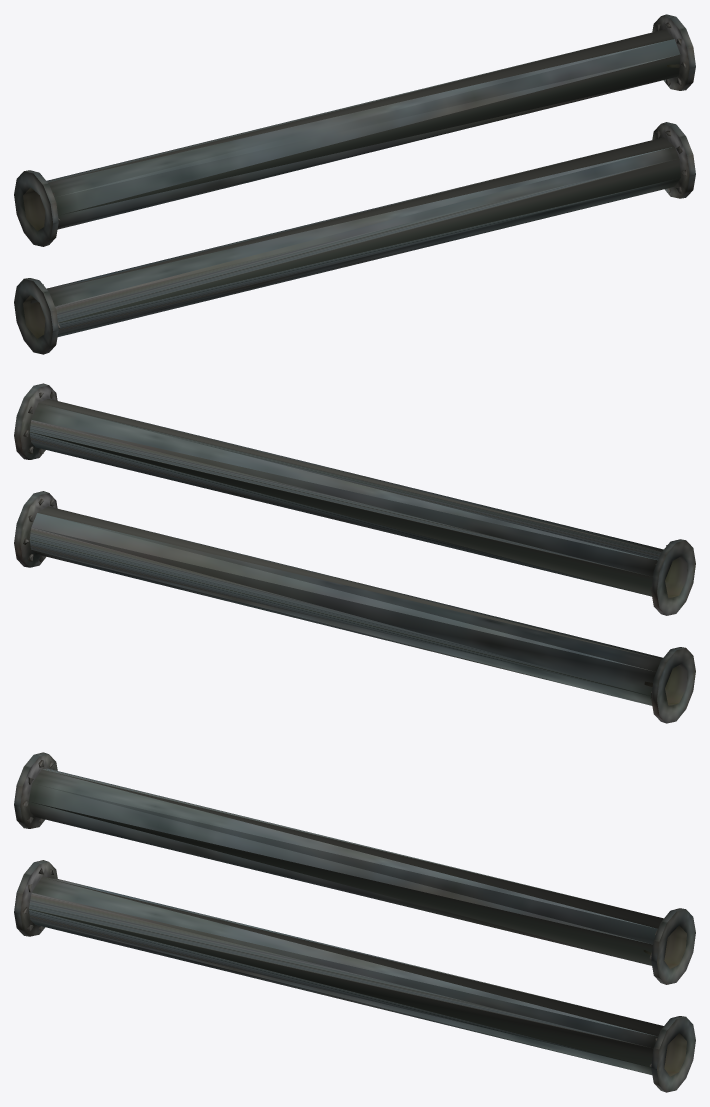
The model's file is pipe_run.glb.
3 views of the same model, one above another, from view 1: azimuth 30°, elevation 25°; view 2: azimuth 150°, elevation 25°; view 3: azimuth 330°, elevation 25° (orthographic).
Visible parts, largest first — view 1: prop; view 2: prop; view 3: prop.
Part boxes in pixels (bbox=[...]): prop: bbox=[14, 14, 695, 354]; prop: bbox=[14, 383, 695, 723]; prop: bbox=[14, 752, 695, 1092].
Size of the model in its own units: 2 by 0.5319 by 0.2111.
Materials: 1 (1 with a texture image).
